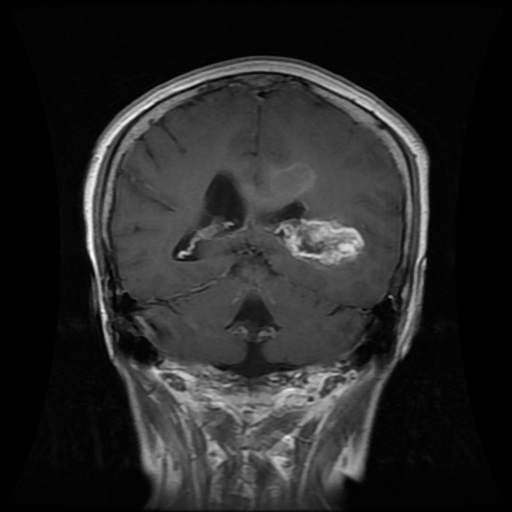glioma: (242, 163, 364, 268)
